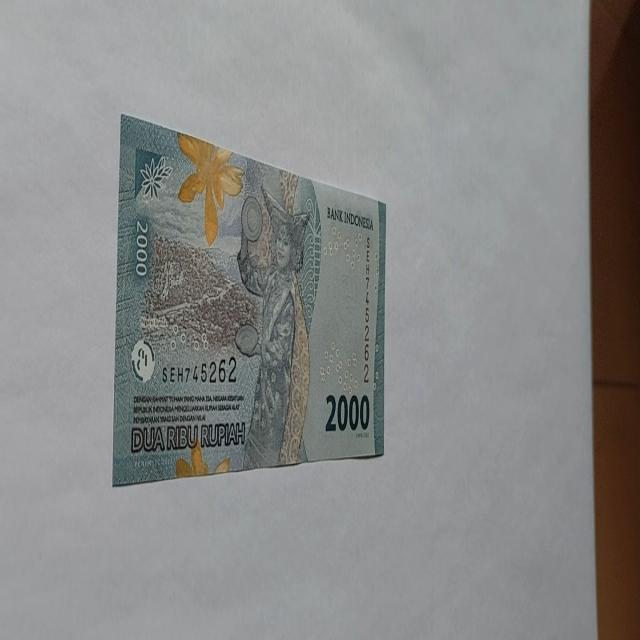dua ribu rupiah: (111, 112, 386, 486), (234, 184, 311, 470), (176, 131, 245, 247)
